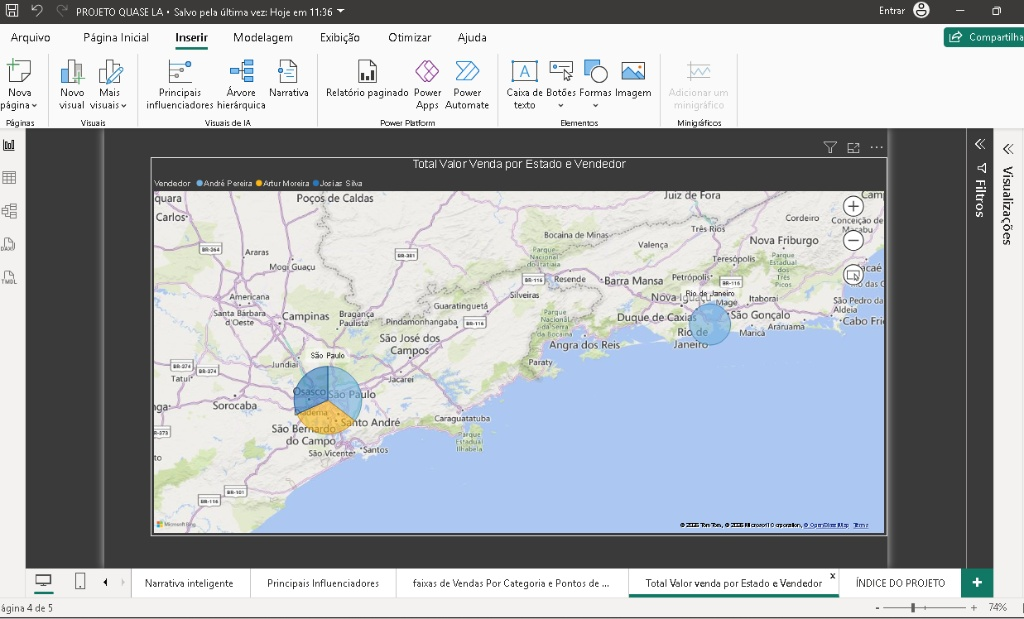

The page's visual inventory and layout, read from the dashboard file:
{"tool":"powerbi","page":{"name":"Total Valor   venda por Estado e Vendedor ","canvas":[1280,720],"ordinal":4},"visuals":[{"type":"map","fields":{"Category":["Vendas.Estado"],"Series":["Vendas.Vendedor"],"Size":["Sum(Vendas.ValorVenda)"]},"box":[75.8,47,1204.2,620.3],"z":0}]}

Visuals, with their boxes on the page's 1280x720 design canvas (x1, y1, x2, y2). These are canvas units, not pixel positions in the 1024x619 screenshot, which may show the page scaled, cropped or inside an application window:
map - Vendas.Estado x Vendas.Vendedor: bbox=(76, 47, 1280, 667)
